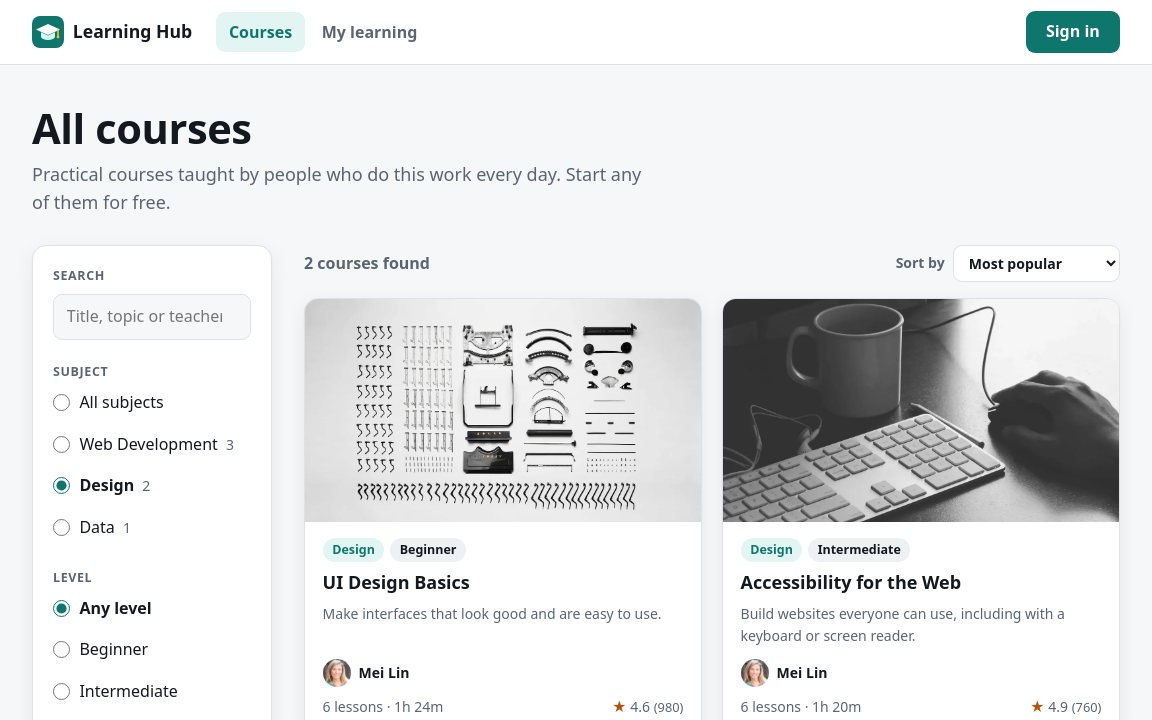
Test: browsing › filters from the address, and keeps filters in it
Expected: the heading "2 courses found" is shown, [304,251,430,276]
Click the radio button labelled "Beginner": (61, 650) [53,642,70,658]
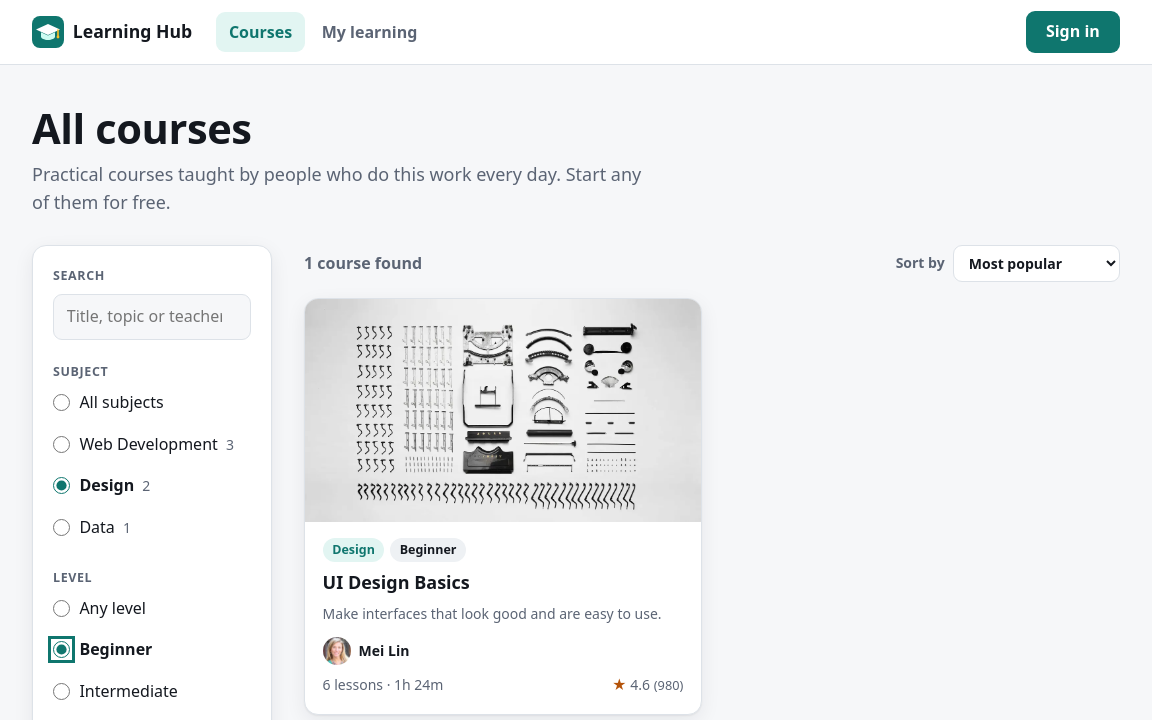
Result: the heading "1 course found" is shown at [304,251,422,276]
